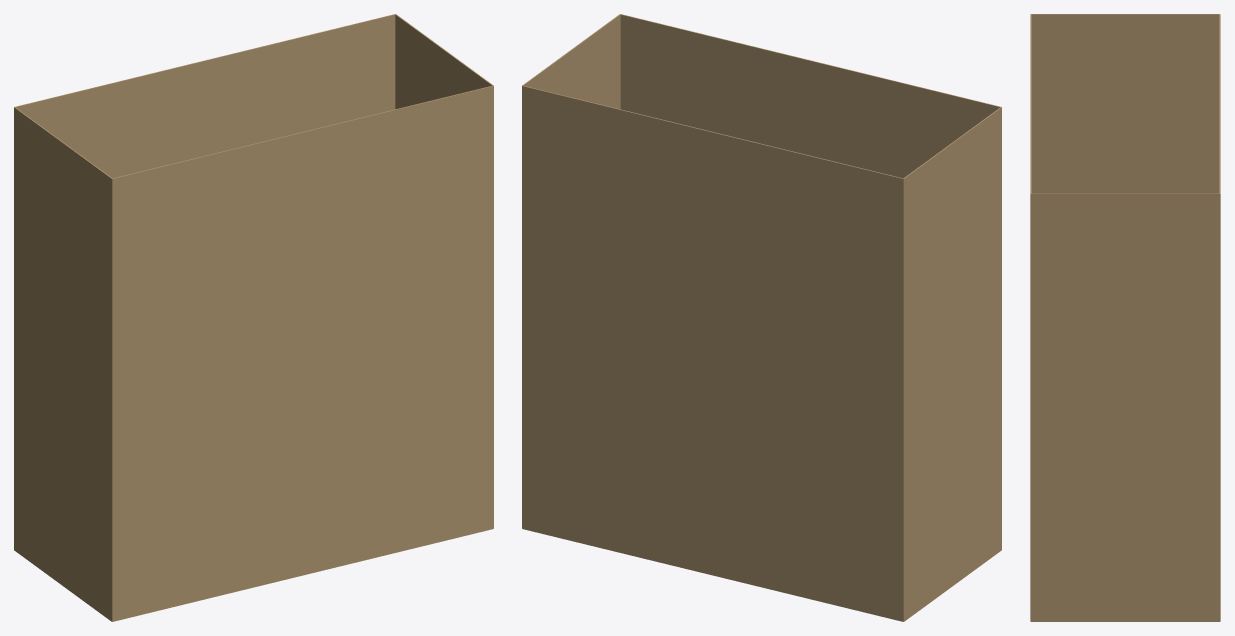
File: paper.glb
3 renders of one model, left to right at view 1: azimuth 30°, elevation 25°; view 2: azimuth 150°, elevation 25°; view 3: azimuth 270°, elevation 25°, orthographic. The views are drawn at different scales.
Visible parts, largest first — view 1: BagWideWall_0.04, BagSideWall_-0.09, BagWideWall_-0.04, BagSideWall_0.09; view 2: BagWideWall_-0.04, BagSideWall_-0.09, BagWideWall_0.04, BagSideWall_0.09; view 3: BagSideWall_0.09, BagSideWall_-0.09, BagWideWall_-0.04, BagWideWall_0.04.
Part boxes in pixels (x1,y1,x2,y2): BagWideWall_0.04: (112, 85, 493, 621); BagSideWall_-0.09: (14, 107, 112, 621); BagWideWall_-0.04: (14, 14, 395, 178); BagSideWall_0.09: (395, 14, 493, 528); BagWideWall_-0.04: (522, 85, 903, 621); BagSideWall_-0.09: (903, 107, 1001, 621); BagWideWall_0.04: (620, 14, 1001, 178); BagSideWall_0.09: (522, 14, 620, 528); BagSideWall_0.09: (1031, 193, 1219, 621); BagSideWall_-0.09: (1031, 14, 1219, 193); BagWideWall_-0.04: (1219, 14, 1220, 621); BagWideWall_0.04: (1030, 14, 1031, 621).
Size of what is drawn, in the model's own units: 0.1805 by 0.2 by 0.0805.
